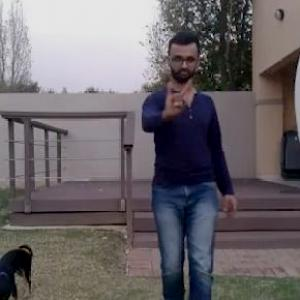takeoff-hand: (157, 63, 194, 117)
